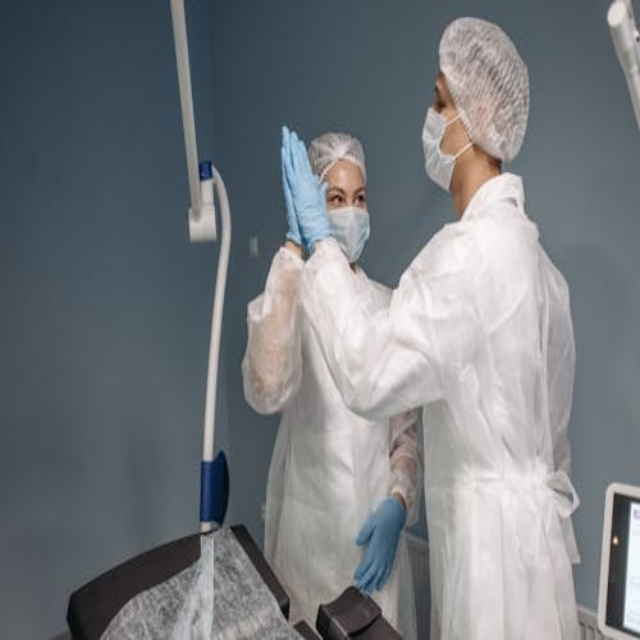Guantes: (281, 124, 334, 257), (353, 496, 407, 594)
Mascara: (421, 105, 470, 191), (324, 204, 370, 265)
Sin_gafas: (326, 180, 367, 201), (425, 84, 451, 109)
